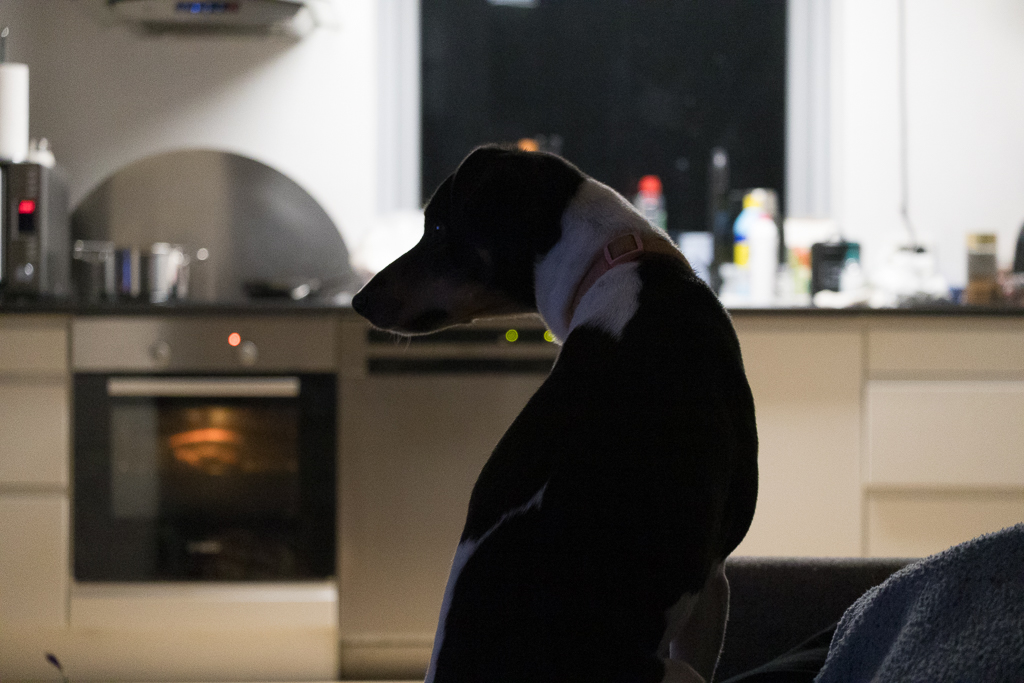Dog: (337, 141, 775, 683)
